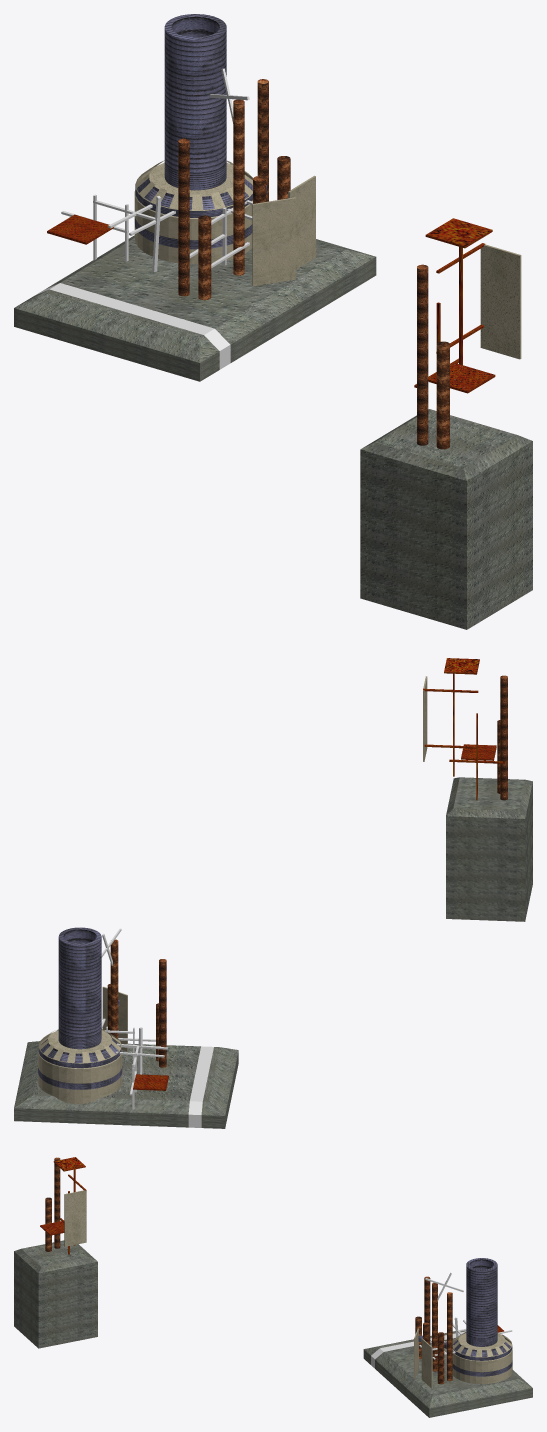
The model's file is industria.fbx.
3 renders of one model, top to bottom at view 1: azimuth 30°, elevation 25°; view 2: azimuth 150°, elevation 25°; view 3: azimuth 270°, elevation 25°, orthographic. The views are drawn at different scales.
Visible parts, largest first — view 1: Cube.045, Cube.035, Cylinder.015, Cube.044, Cube.026, Cylinder.013, Cube.038, Cylinder.014, Cube.028, Cylinder.012, Cube.025, Cylinder.010 (+1 smaller); view 2: Cube.045, Cube.035, Cylinder.015, Cube.038, Cylinder.013, Cube.028, Cylinder.014, Cylinder.012, Cube.026; view 3: Cube.045, Cube.035, Cylinder.015, Cube.044, Cylinder.013, Cube.038, Cylinder.010, Cylinder.014, Cylinder.012, Cube.025, Cylinder.009, Cube.028.
Part boxes in pixels (x1,y1,x2,y2): Cube.045: [360, 409, 532, 629]; Cube.035: [14, 235, 376, 381]; Cylinder.015: [134, 14, 252, 264]; Cube.044: [480, 244, 521, 359]; Cube.026: [252, 197, 296, 286]; Cylinder.013: [417, 264, 449, 449]; Cube.038: [414, 218, 495, 393]; Cylinder.014: [178, 138, 211, 300]; Cube.028: [61, 68, 252, 271]; Cylinder.012: [233, 99, 244, 275]; Cube.025: [288, 175, 315, 269]; Cylinder.010: [257, 79, 268, 201]; Cube.045: [446, 777, 532, 921]; Cube.035: [14, 1041, 238, 1128]; Cylinder.015: [38, 927, 122, 1104]; Cube.038: [423, 658, 504, 800]; Cylinder.013: [497, 675, 507, 800]; Cube.028: [101, 928, 167, 1109]; Cylinder.014: [156, 959, 166, 1067]; Cylinder.012: [110, 939, 118, 1038]; Cube.026: [102, 986, 127, 1051]; Cube.045: [14, 1240, 97, 1348]; Cube.035: [363, 1330, 532, 1417]; Cylinder.015: [452, 1258, 512, 1384]; Cube.044: [64, 1190, 86, 1246]; Cylinder.013: [45, 1157, 60, 1251]; Cube.038: [40, 1157, 86, 1254]; Cylinder.010: [447, 1292, 452, 1381]; Cylinder.014: [415, 1276, 430, 1359]; Cylinder.012: [432, 1282, 437, 1371]; Cube.025: [421, 1338, 432, 1388]; Cylinder.009: [437, 1332, 444, 1384]; Cube.028: [419, 1273, 512, 1369].
Size of the model in its own units: 362 by 371 by 874.
